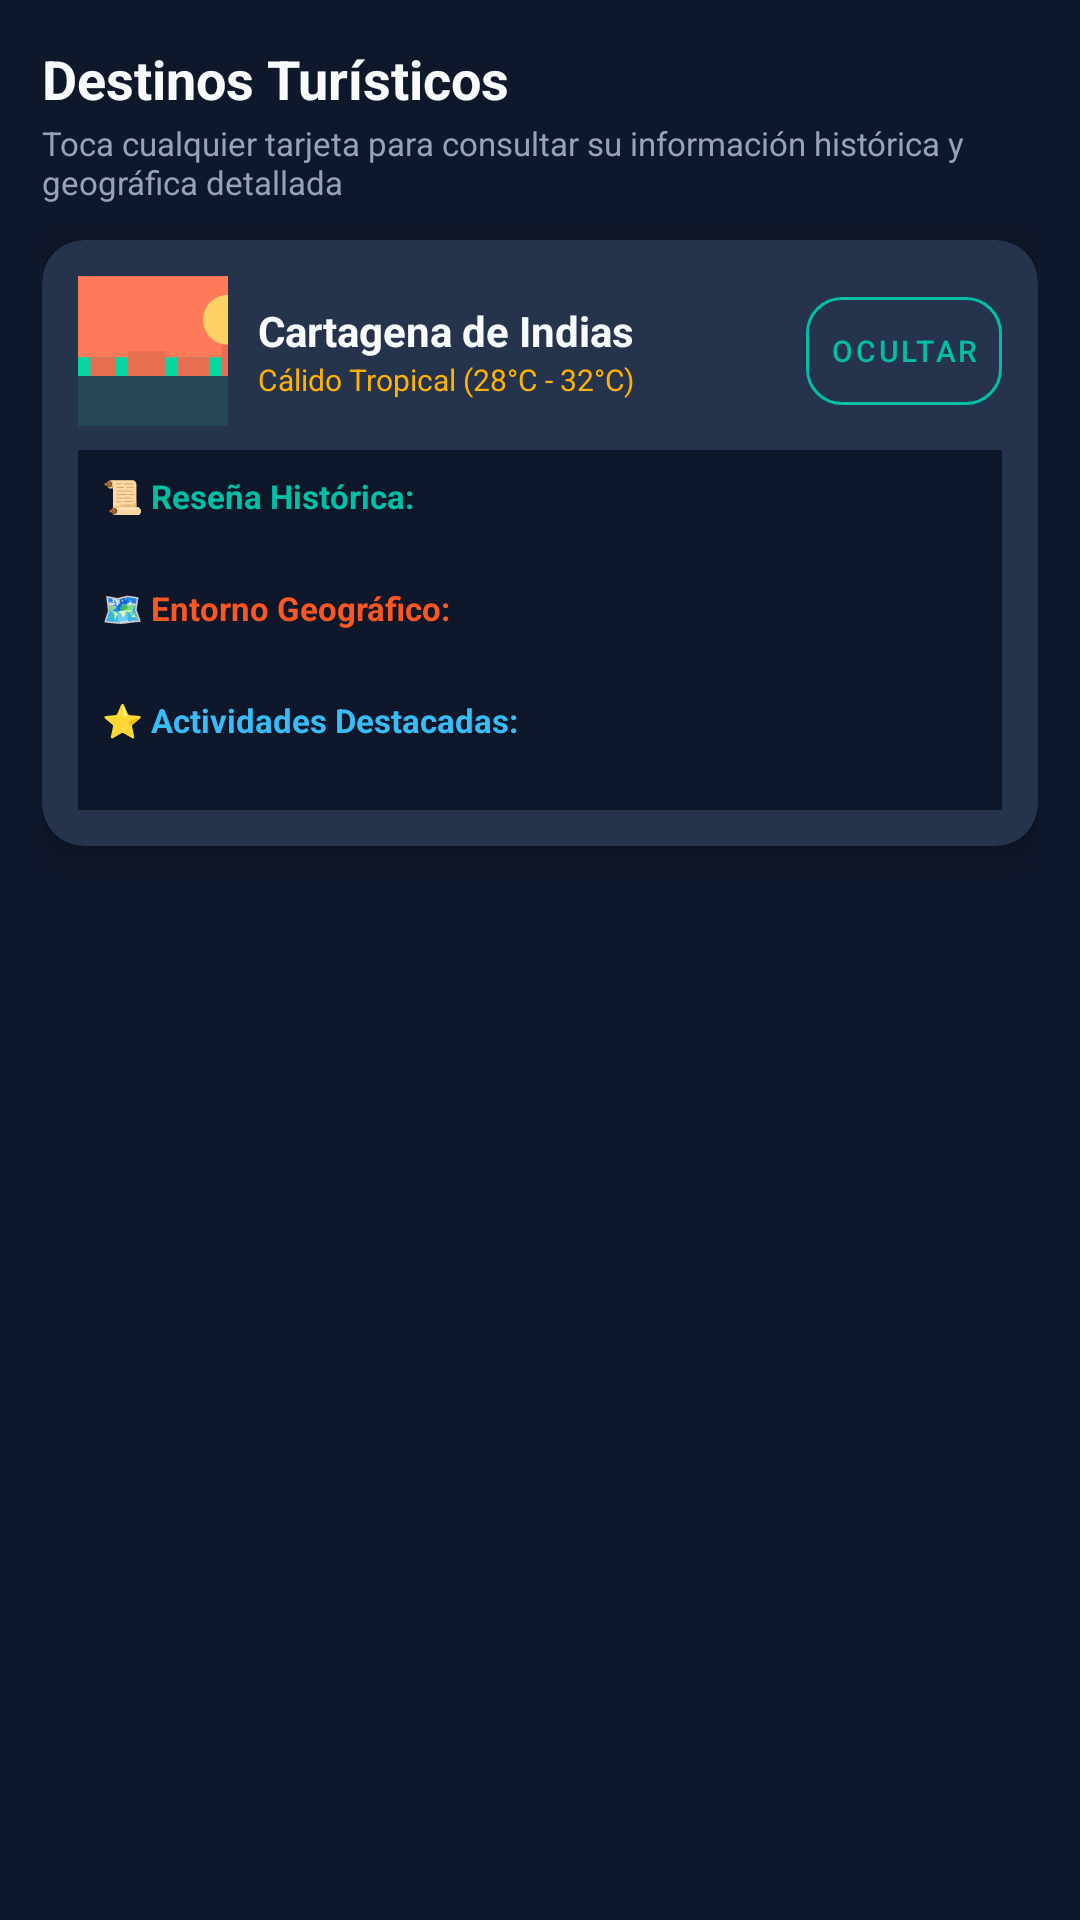

Screen size 1080w x 1920h. Icon name, then its center in pixels as (x,y):
Miniatura Destino: (153,326)
